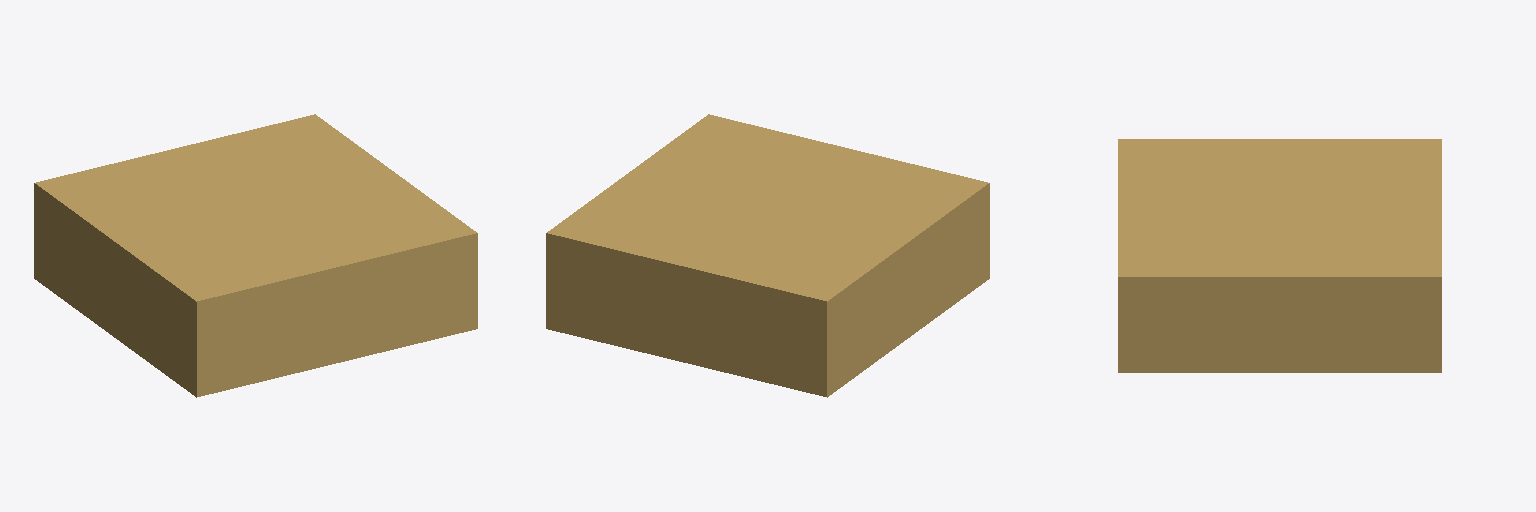
The model's file is egyptcat.obj.
3 views of the same model, side by side, from view 1: azimuth 30°, elevation 25°; view 2: azimuth 150°, elevation 25°; view 3: azimuth 270°, elevation 25° (orthographic).
Visible parts, largest first — view 1: Mesh.003_Mesh.002; view 2: Mesh.003_Mesh.002; view 3: Mesh.003_Mesh.002.
Boxes of the visible parts, <box> form: Mesh.003_Mesh.002: <box>34,114,477,397</box>; Mesh.003_Mesh.002: <box>546,114,989,397</box>; Mesh.003_Mesh.002: <box>1118,139,1441,372</box>.
Size of the model in its own units: 22.41 by 7.32 by 22.41.